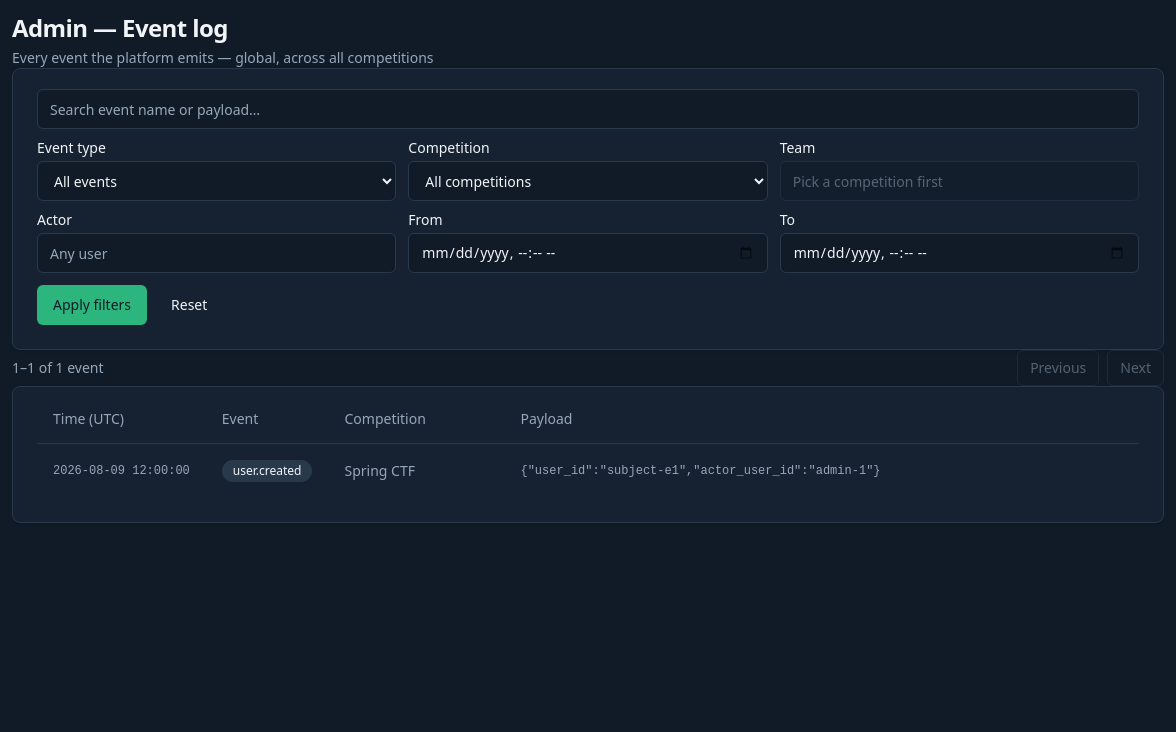
it: AdminEventLogPage payload expansion › clicking a row opens the full payload in its own full-width row
The width and height of the screenshot is (1176, 732).
Click the text "{\"user_id\":\"subject-e1\",\"actor_user_id\":\"admin-1\"}" at (588, 470), box [37, 443, 1139, 498]
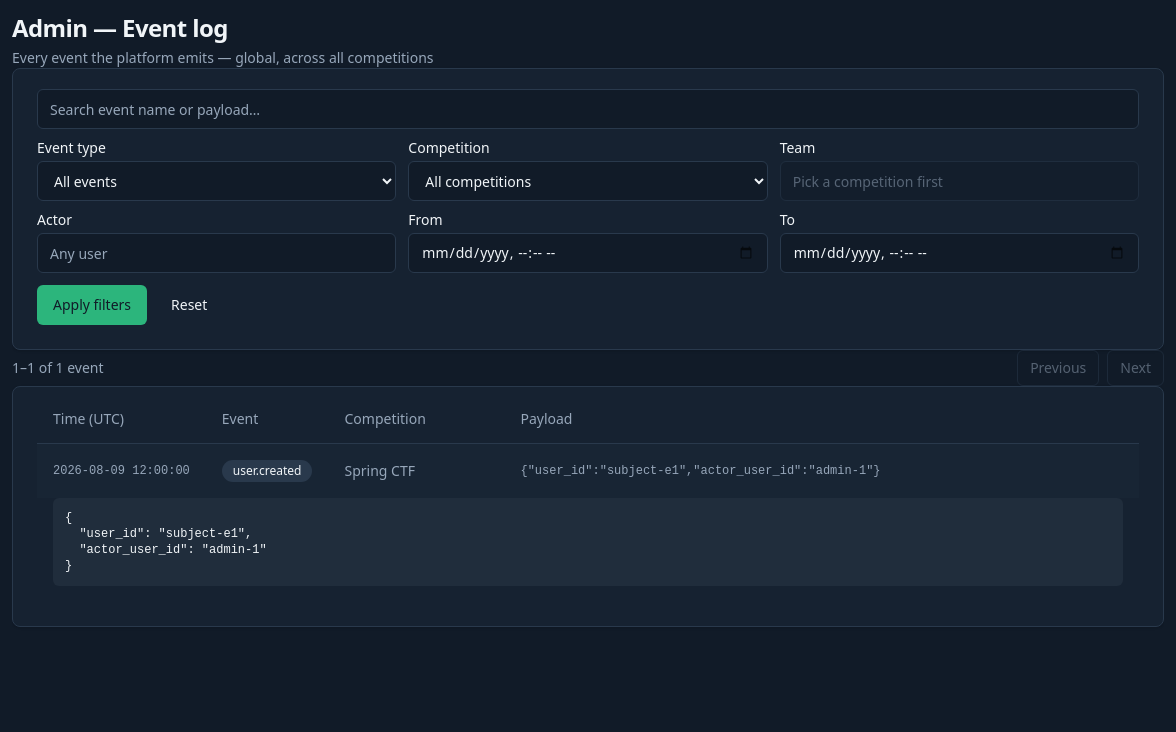
Check: the text "{\"user_id\":\"subject-e1\",\"actor_user_id\":\"admin-1\"}" is shown, box [520, 464, 881, 478]
Check: the text "{ \"user_id\": \"subject-e1\", \"actor_user_id\": \"admin-1\" }" is shown, box [53, 498, 1123, 586]
Check: the text "{ \"user_id\": \"subject-e1\", \"actor_user_id\": \"admin-1\" }" shows "\"user_id\": \"subject-e1\"", box [65, 510, 267, 572]
